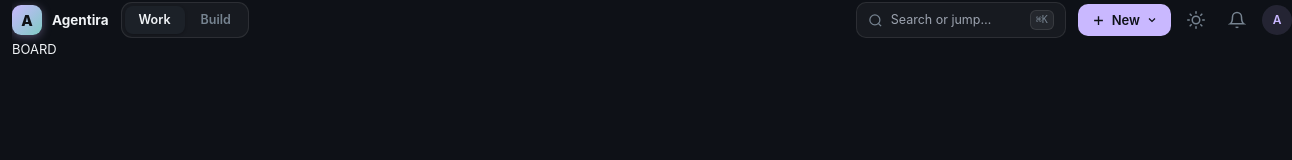
Test: AppTopbar — blended bar › has a Work | Build switch; Build goes to /forge
Click the button "Build" at (216, 20), box left=186, top=6, right=245, bottom=34
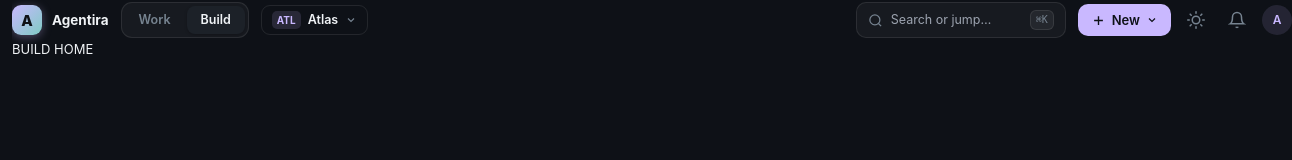
Expected: the text "BUILD HOME" is shown, left=12, top=41, right=93, bottom=57
